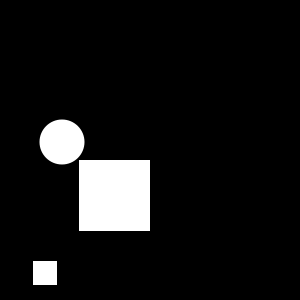circle: (79, 160, 150, 231), (33, 261, 57, 285)
rectangle: (39, 120, 84, 164)
